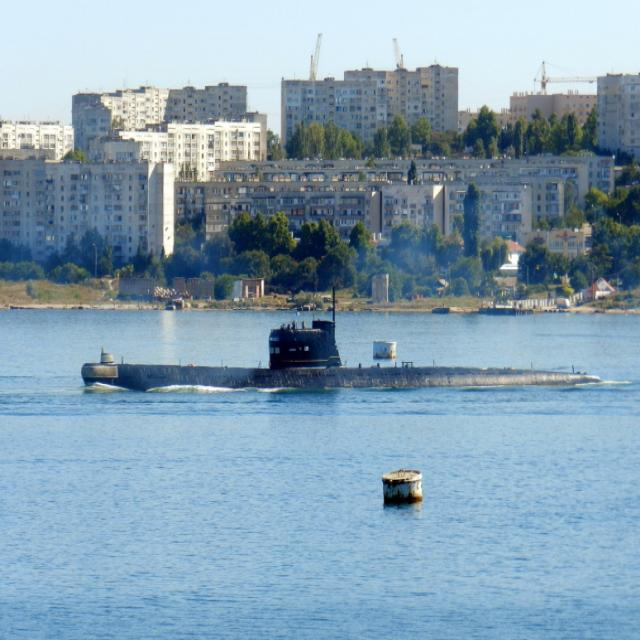submarine: (81, 327, 596, 390)
